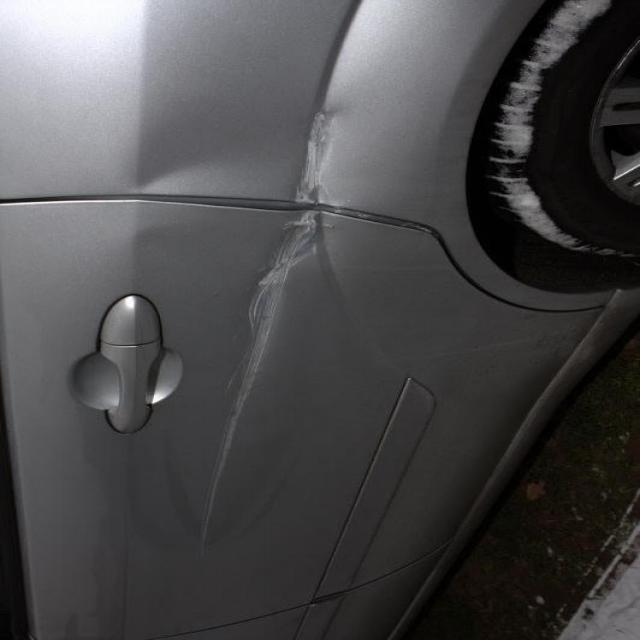scratch: (236, 99, 370, 323)
